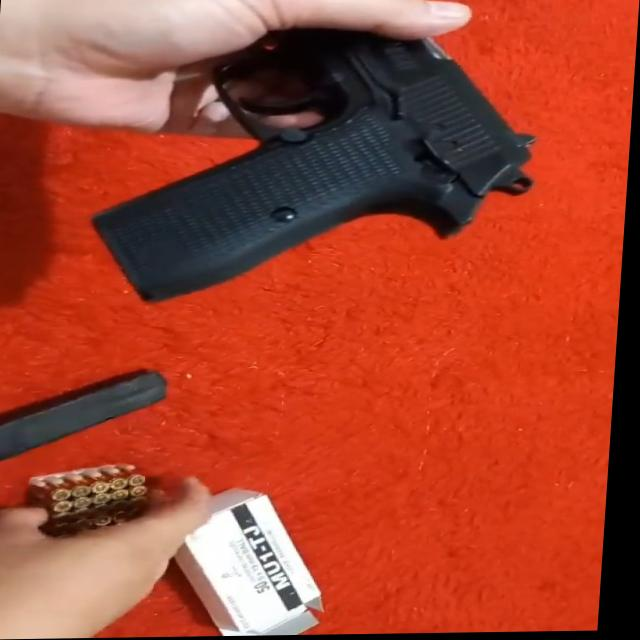handgun: (75, 3, 579, 312)
